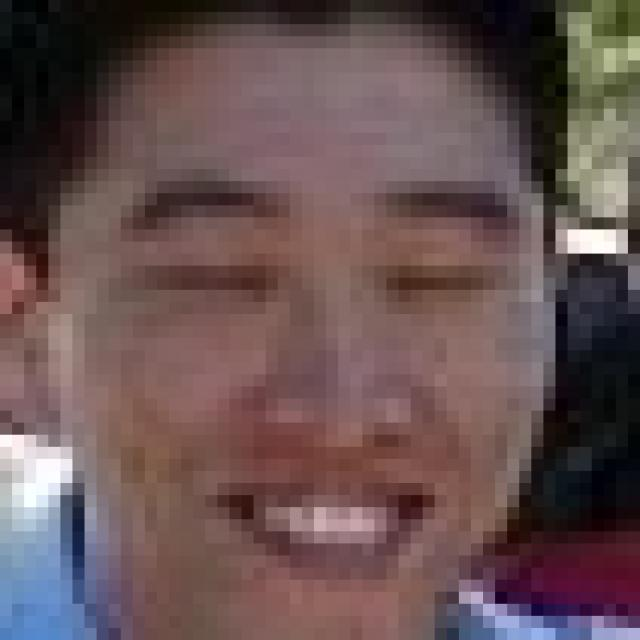Eyeclosed: (148, 248, 266, 300), (393, 260, 501, 303)
